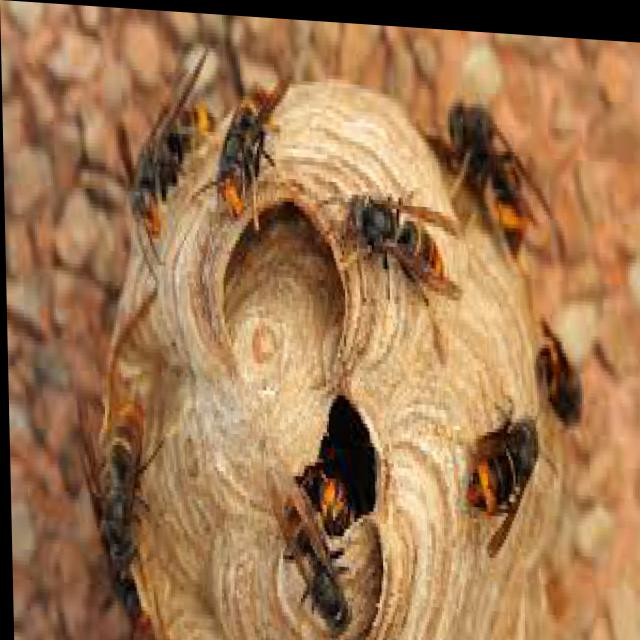Vespa Velutina: (323, 165, 465, 315), (193, 56, 301, 244), (445, 390, 548, 561)
